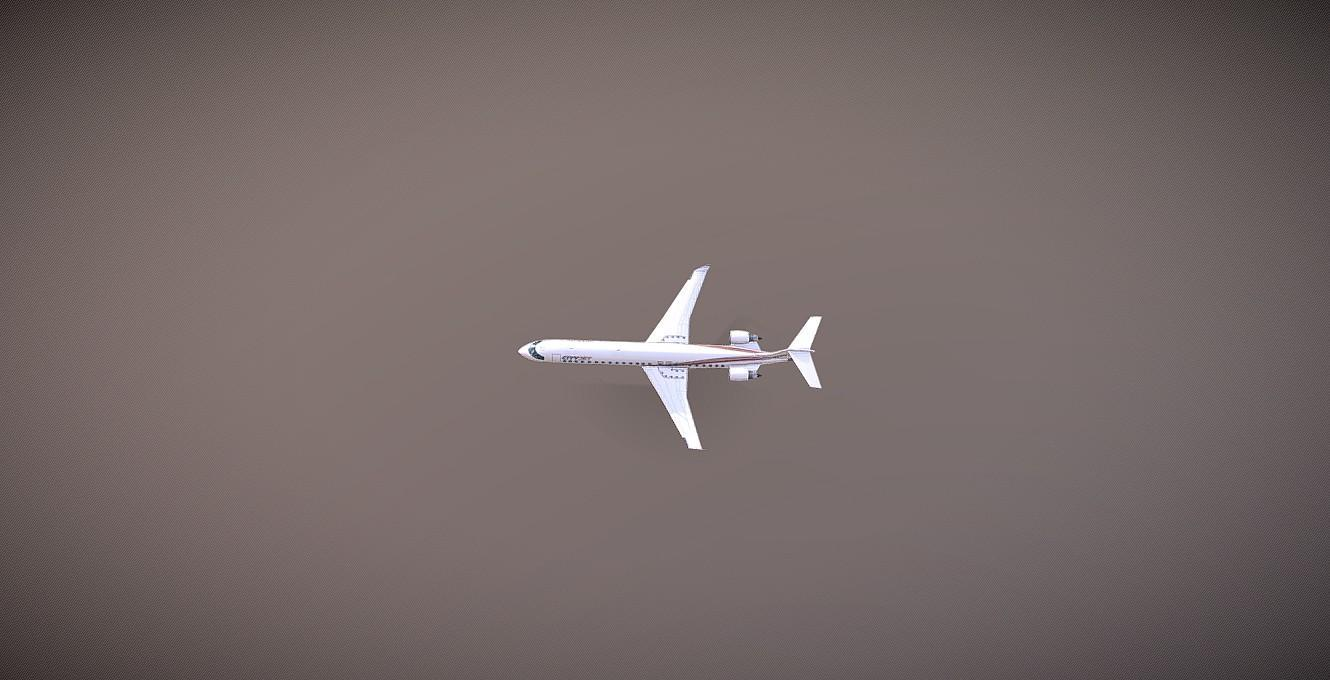Airplane: (516, 263, 823, 450)
